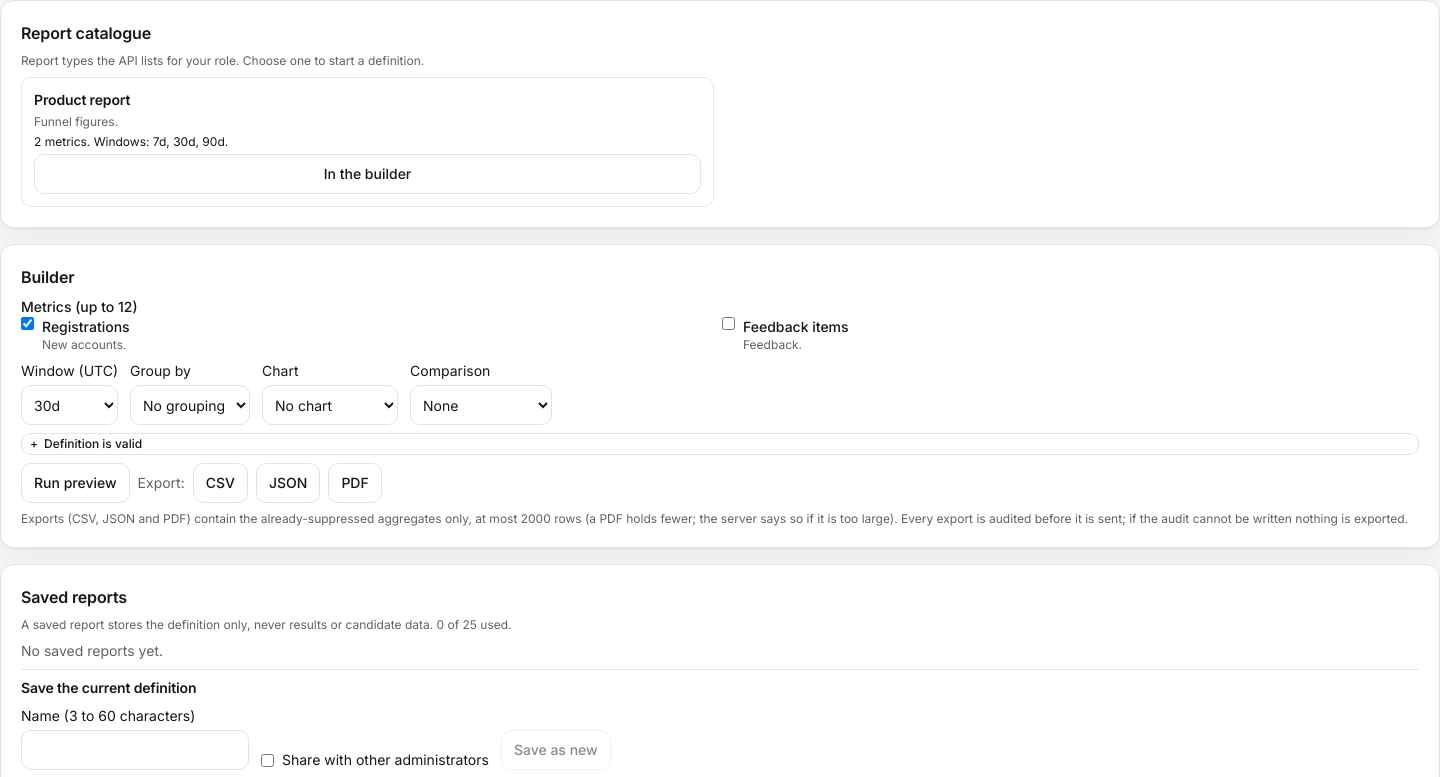
Test: builder UI › an export that returns the wrong content type is refused and no file is created
Expected: the heading "Builder" is shown, [21,267,74,287]
Expected: the text "Definition is valid" is shown, [44,436,142,451]
Click the button with aria-label "Export CSV": (220, 483) [193,463,248,503]
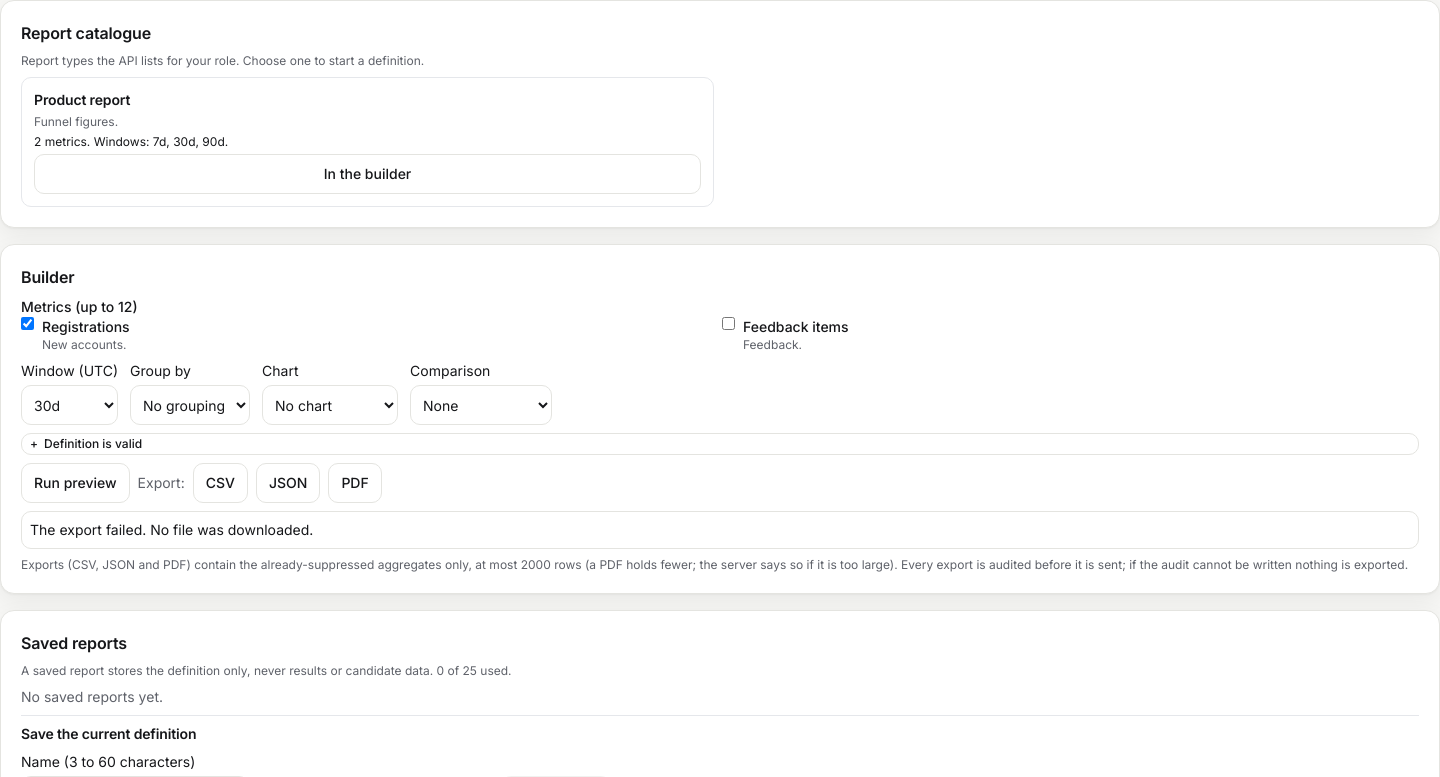
Expected: the text "The export failed. No file was downloaded." is shown, [21,511,1419,549]
